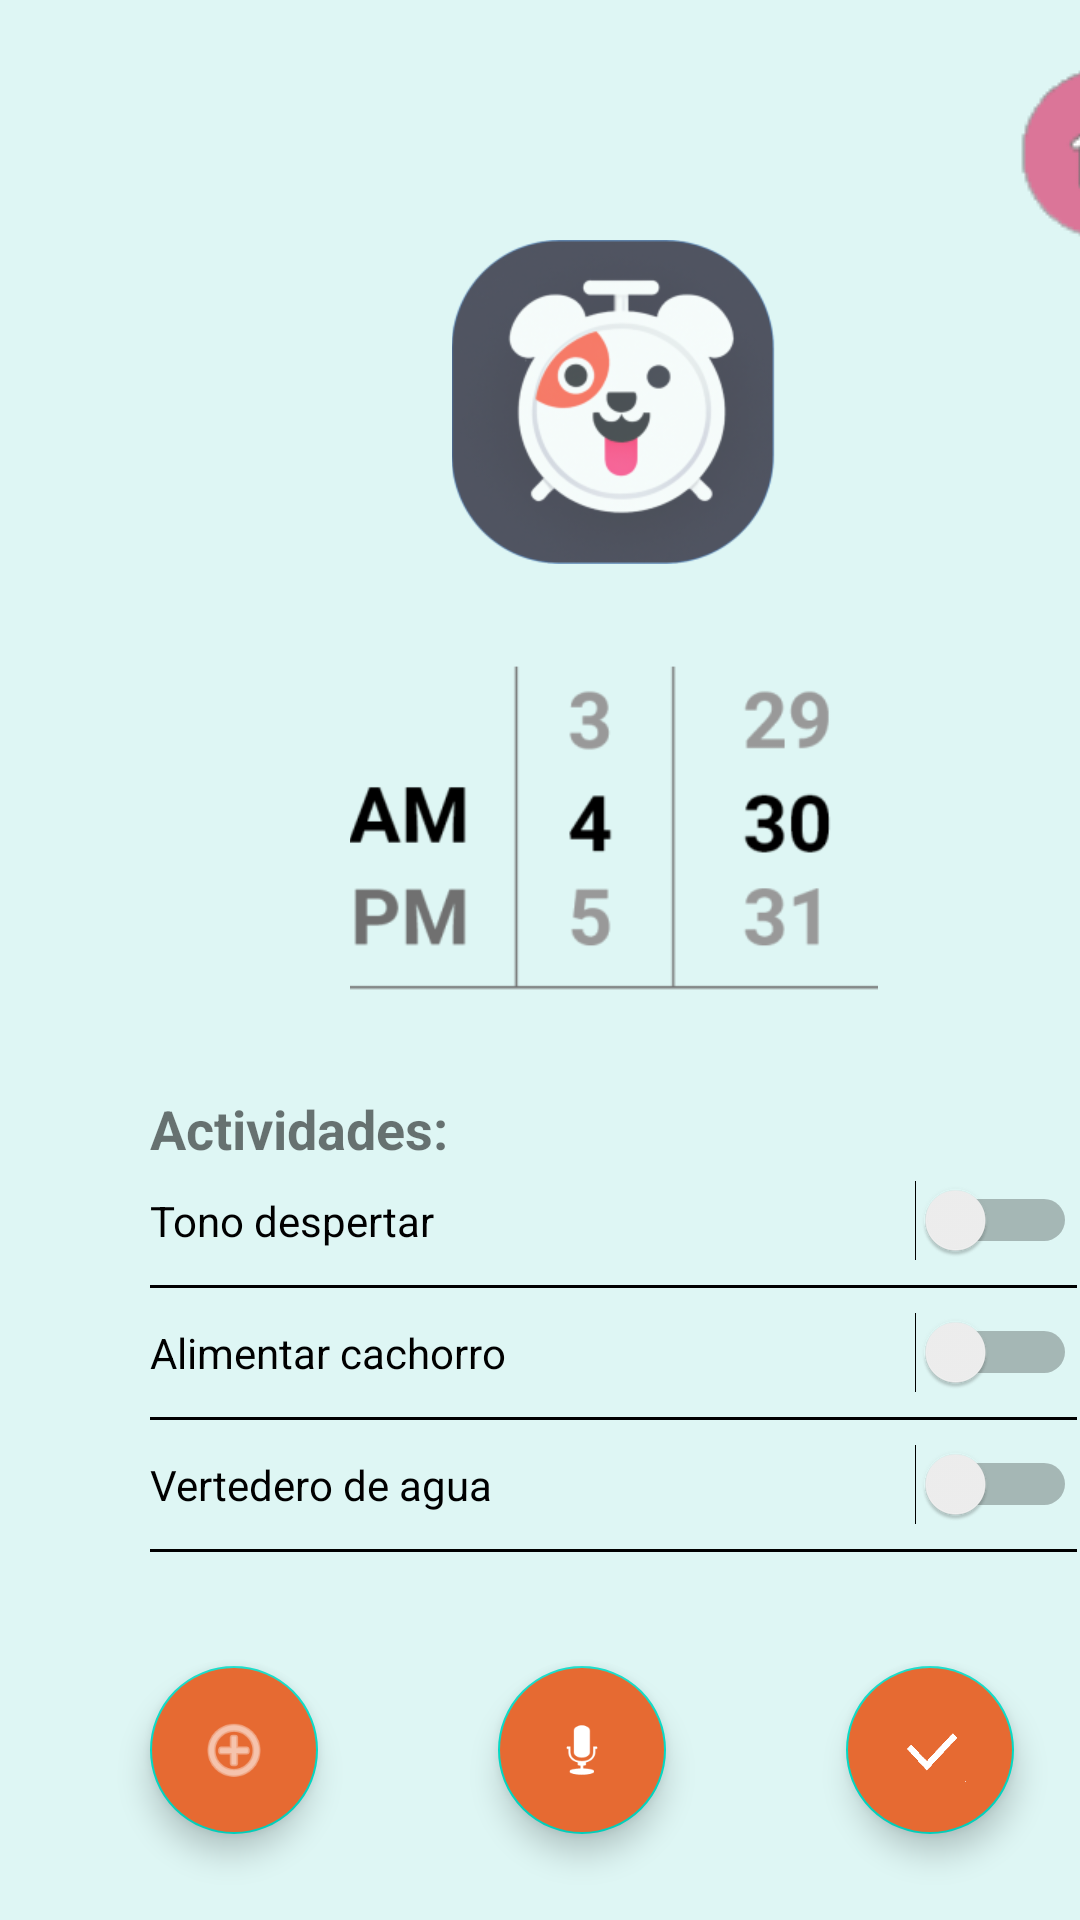

Locate icon controls on the screen. Image size 1080w x 1920h, boxes as (x1, y1, x2, y2).
add: (150, 1666, 318, 1834)
speak now: (498, 1666, 666, 1834)
